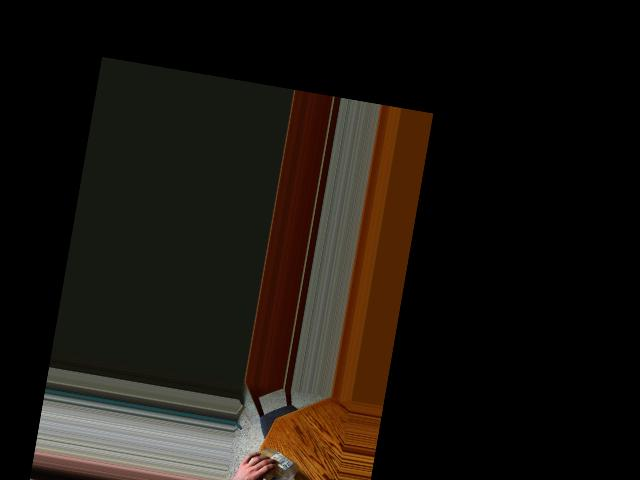cheese: (252, 452, 297, 480)
